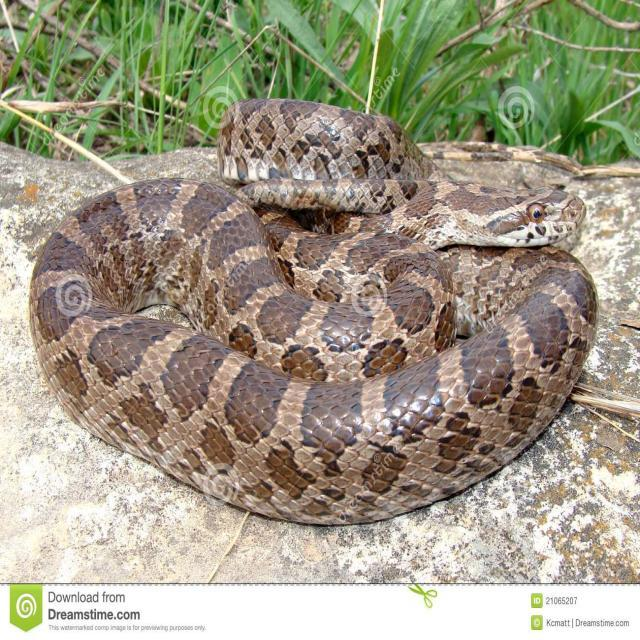Snake: (28, 96, 598, 527)
